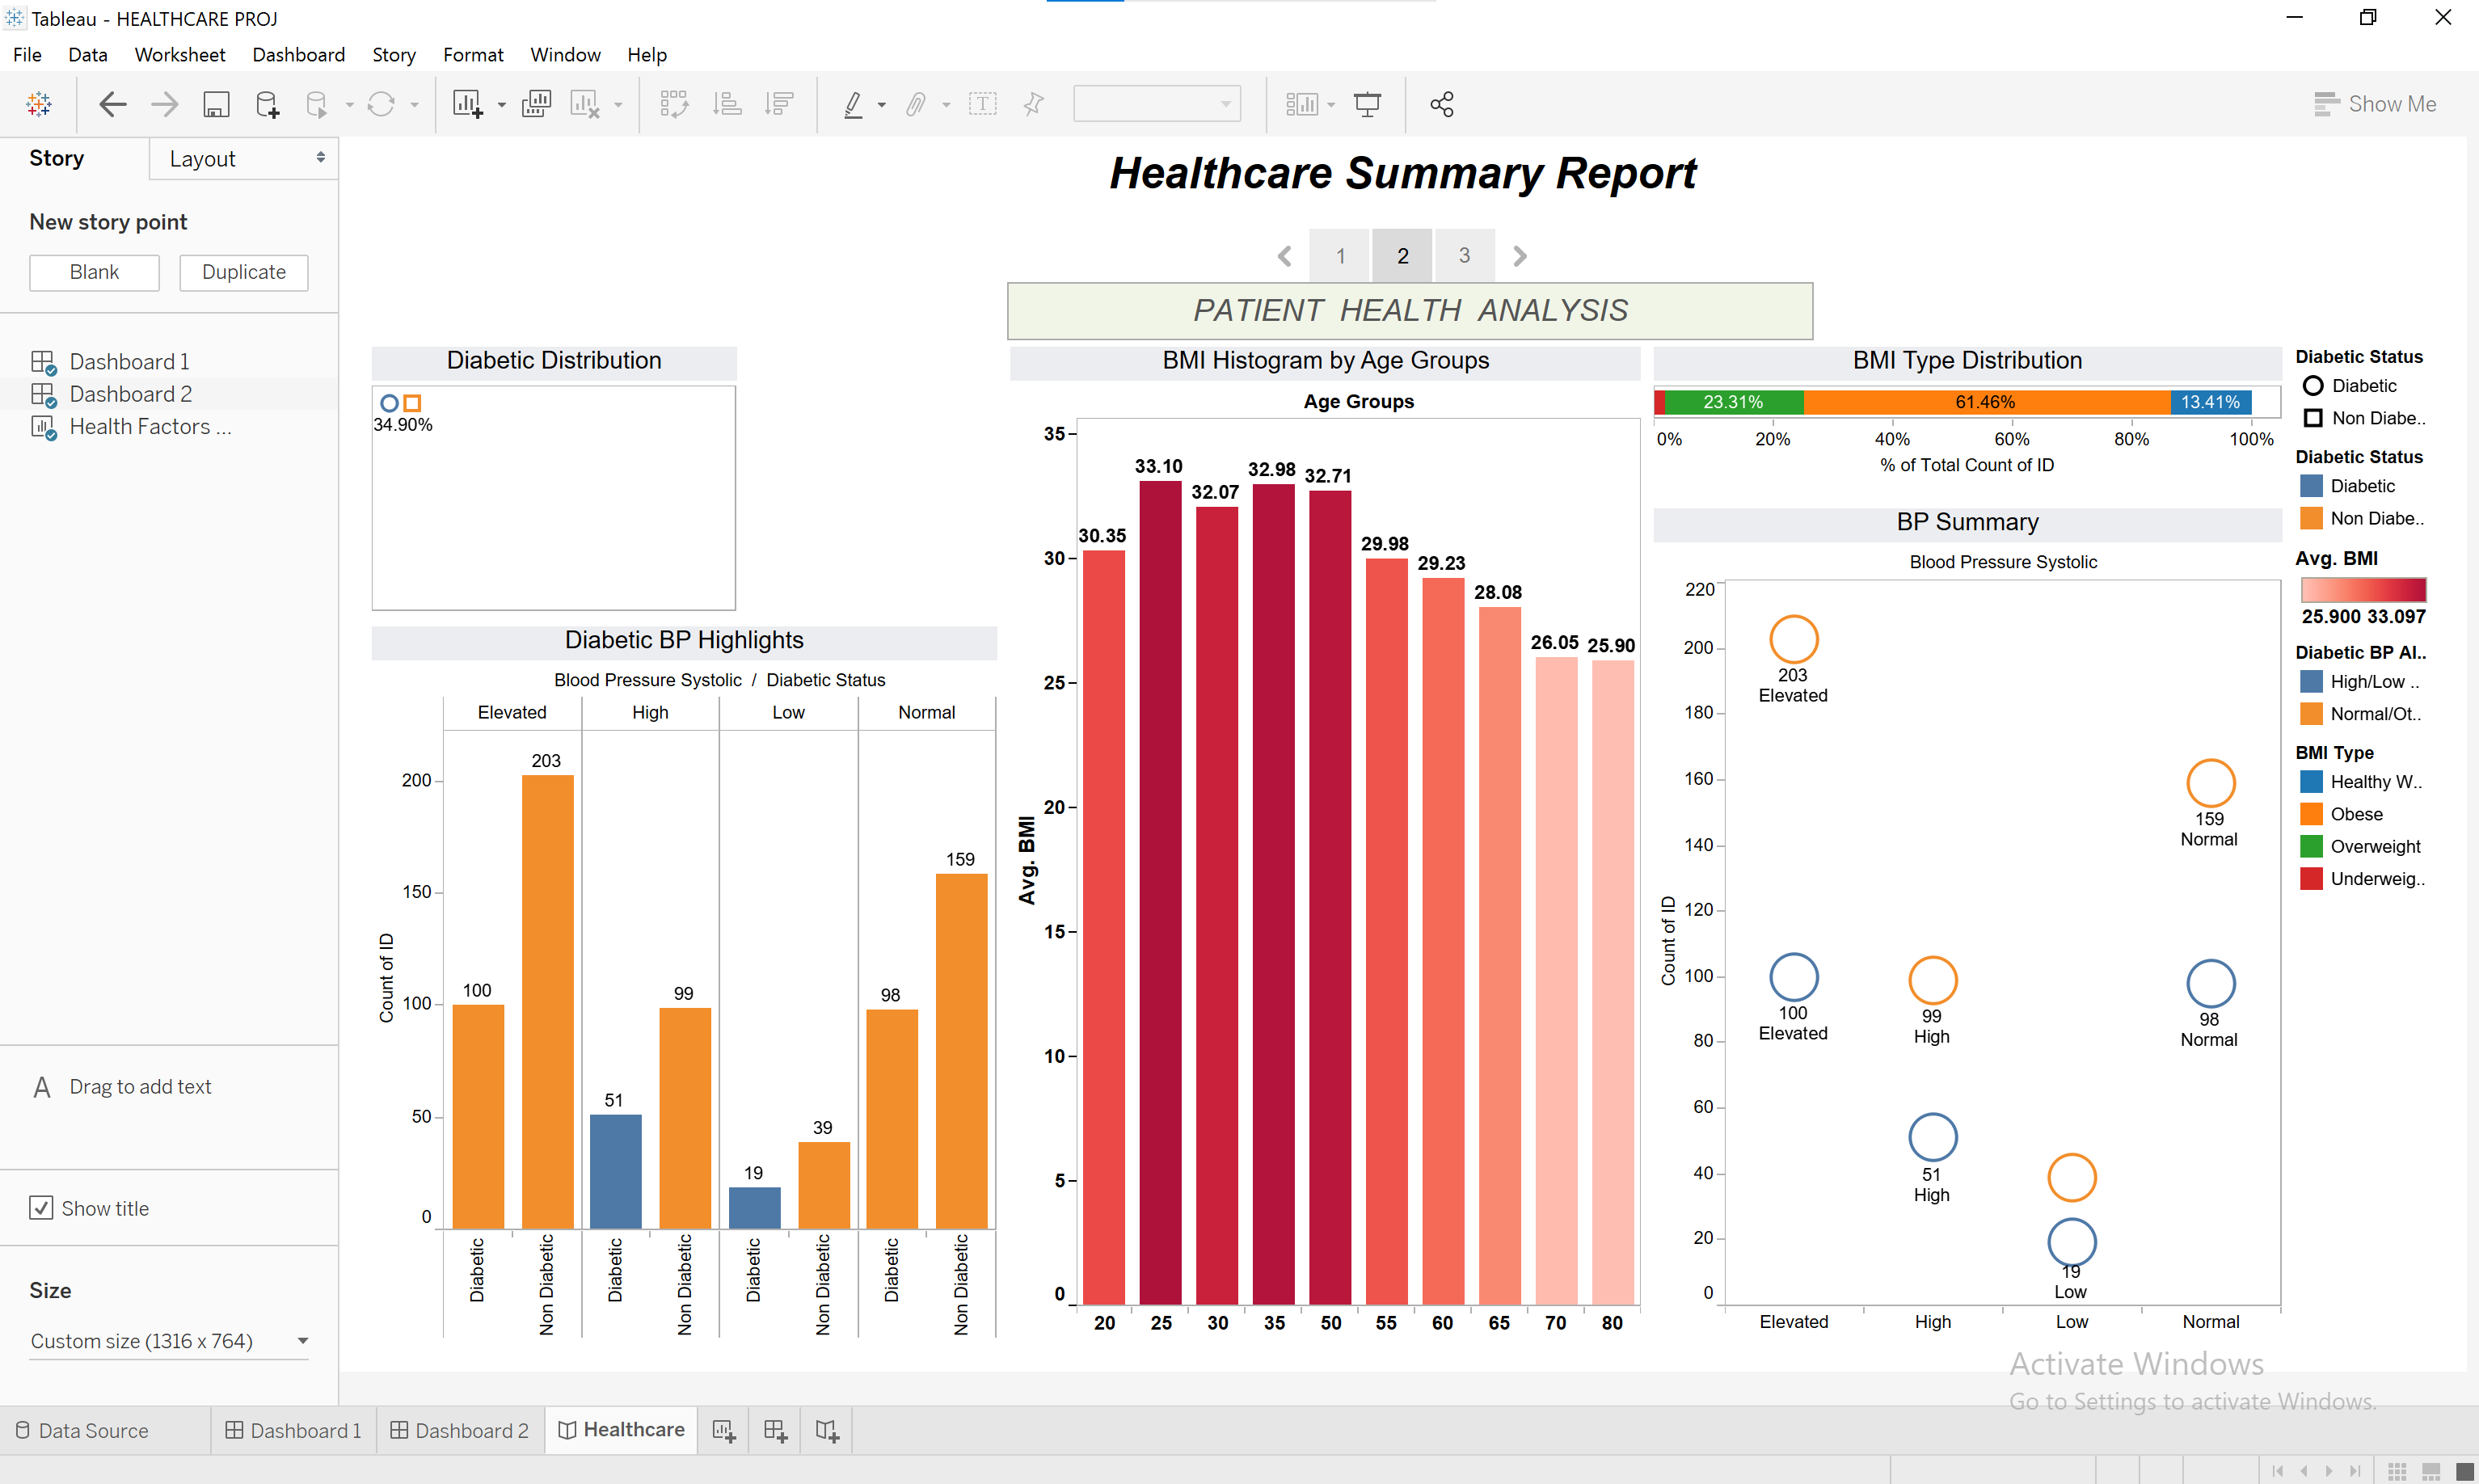

Layout of this report page (visuals, bound fields, positions):
{"tool":"tableau","page":{"name":"Dashboard 2","canvas":[1000,1000],"units":"permille","ordinal":1},"visuals":[{"type":"worksheet","title":"Diabetic Distribution","mark":"Shape","box":[6,10.2,304.1,271.7]},{"type":"worksheet","title":"BMI Histogram ","mark":"Automatic","rows":["BMI"],"cols":["Age (bin)"],"box":[310.2,10.2,307.2,979.6]},{"type":"worksheet","title":"BMI Type Distribution","mark":"Bar","cols":["ID"],"box":[617.3,10.2,305.7,158.2]},{"type":"legend","title":"Diabetic Distribution","param":"[federated.1hgrrcg1oogidl169c70x14hwzsd].[none:Calculation_492299767472533504:nk","box":[923,10.2,70.9,79.1]},{"type":"legend","title":"Diabetic Distribution","param":"[federated.1hgrrcg1oogidl169c70x14hwzsd].[none:Calculation_492299767472533504:nk","box":[923,89.3,70.9,79.1]},{"type":"worksheet","title":"BP Summary","mark":"Shape","rows":["ID"],"cols":["Blood Pressure Systolic"],"box":[617.3,168.4,305.7,821.4]},{"type":"legend","title":"BMI Histogram ","param":"[federated.1hgrrcg1oogidl169c70x14hwzsd].[avg:BMI:qk]","box":[923,168.4,70.9,75.2]},{"type":"legend","title":"Diabetic BP Highlights","param":"[federated.1hgrrcg1oogidl169c70x14hwzsd].[none:Calculation_492299767474257922:nk","box":[923,243.6,70.9,79.1]},{"type":"worksheet","title":"Diabetic BP Highlights","mark":"Automatic","rows":["ID"],"cols":["Blood Pressure Systolic","Calculation_492299767472533504"],"box":[6,281.9,304.1,707.9]},{"type":"legend","title":"BMI Type Distribution","param":"[federated.1hgrrcg1oogidl169c70x14hwzsd].[none:Calculation_492299767473819649:nk","box":[923,322.7,70.9,130.1]}]}

Visuals, with their boxes on the dashboard's canvas, which has no fixed pixel size, in thousandths of its width and height (x1, y1, x2, y2). These are canvas units, not pixel positions in the 2479x1484 screenshot, which may show the page scaled, cropped or inside an application window:
"Diabetic Distribution" worksheet (Shape marks): (6, 10, 310, 282)
"BMI Histogram " worksheet: (310, 10, 617, 990)
"BMI Type Distribution" worksheet (Bar marks): (617, 10, 923, 168)
"Diabetic Distribution" legend: (923, 10, 994, 89)
"Diabetic Distribution" legend: (923, 89, 994, 168)
"BP Summary" worksheet (Shape marks): (617, 168, 923, 990)
"BMI Histogram " legend: (923, 168, 994, 244)
"Diabetic BP Highlights" legend: (923, 244, 994, 323)
"Diabetic BP Highlights" worksheet: (6, 282, 310, 990)
"BMI Type Distribution" legend: (923, 323, 994, 453)
